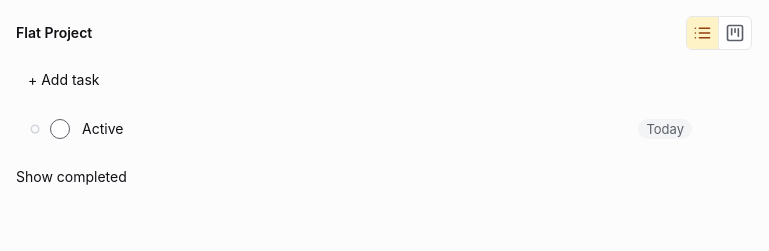
Test: FlatListView › clicking "Show N completed" changes button label to "Hide completed"
Click the button "Show completed" at coordinates (71, 176), box [16,160,127,193]
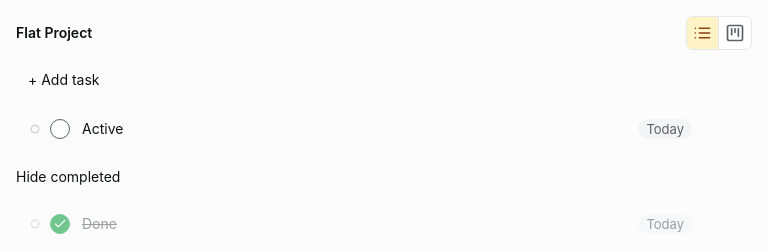
Expected: the button "Hide completed" is shown, [16,160,120,193]
